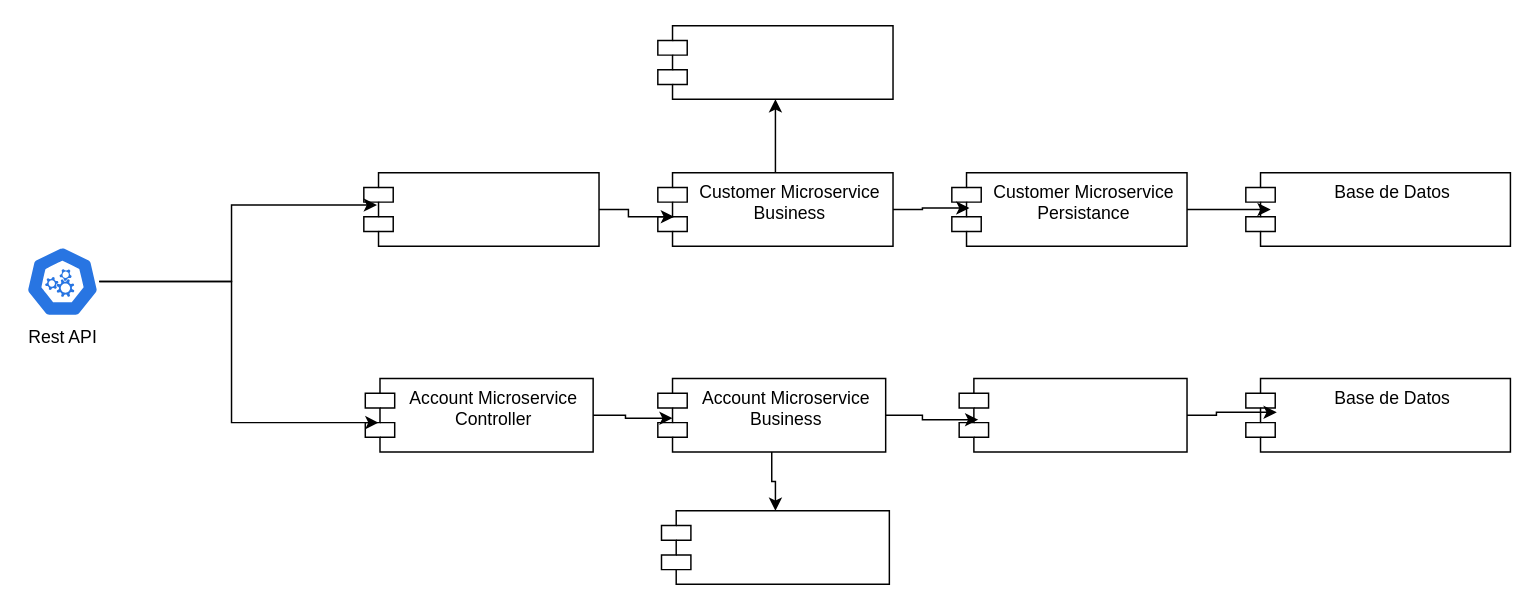
The diagram is 1536 pixels wide and 610 high, and some of its shapes have lost their labels. Here are the shapes that lost their labels. From the top down, the centre of each, then its label:
At point (774, 61): "Customer Microservice Service".
At point (480, 208): "Customer Microservice Controller".
At point (1072, 414): "Account Microservice Persistance".
At point (774, 546): "Account Microservice Service".
